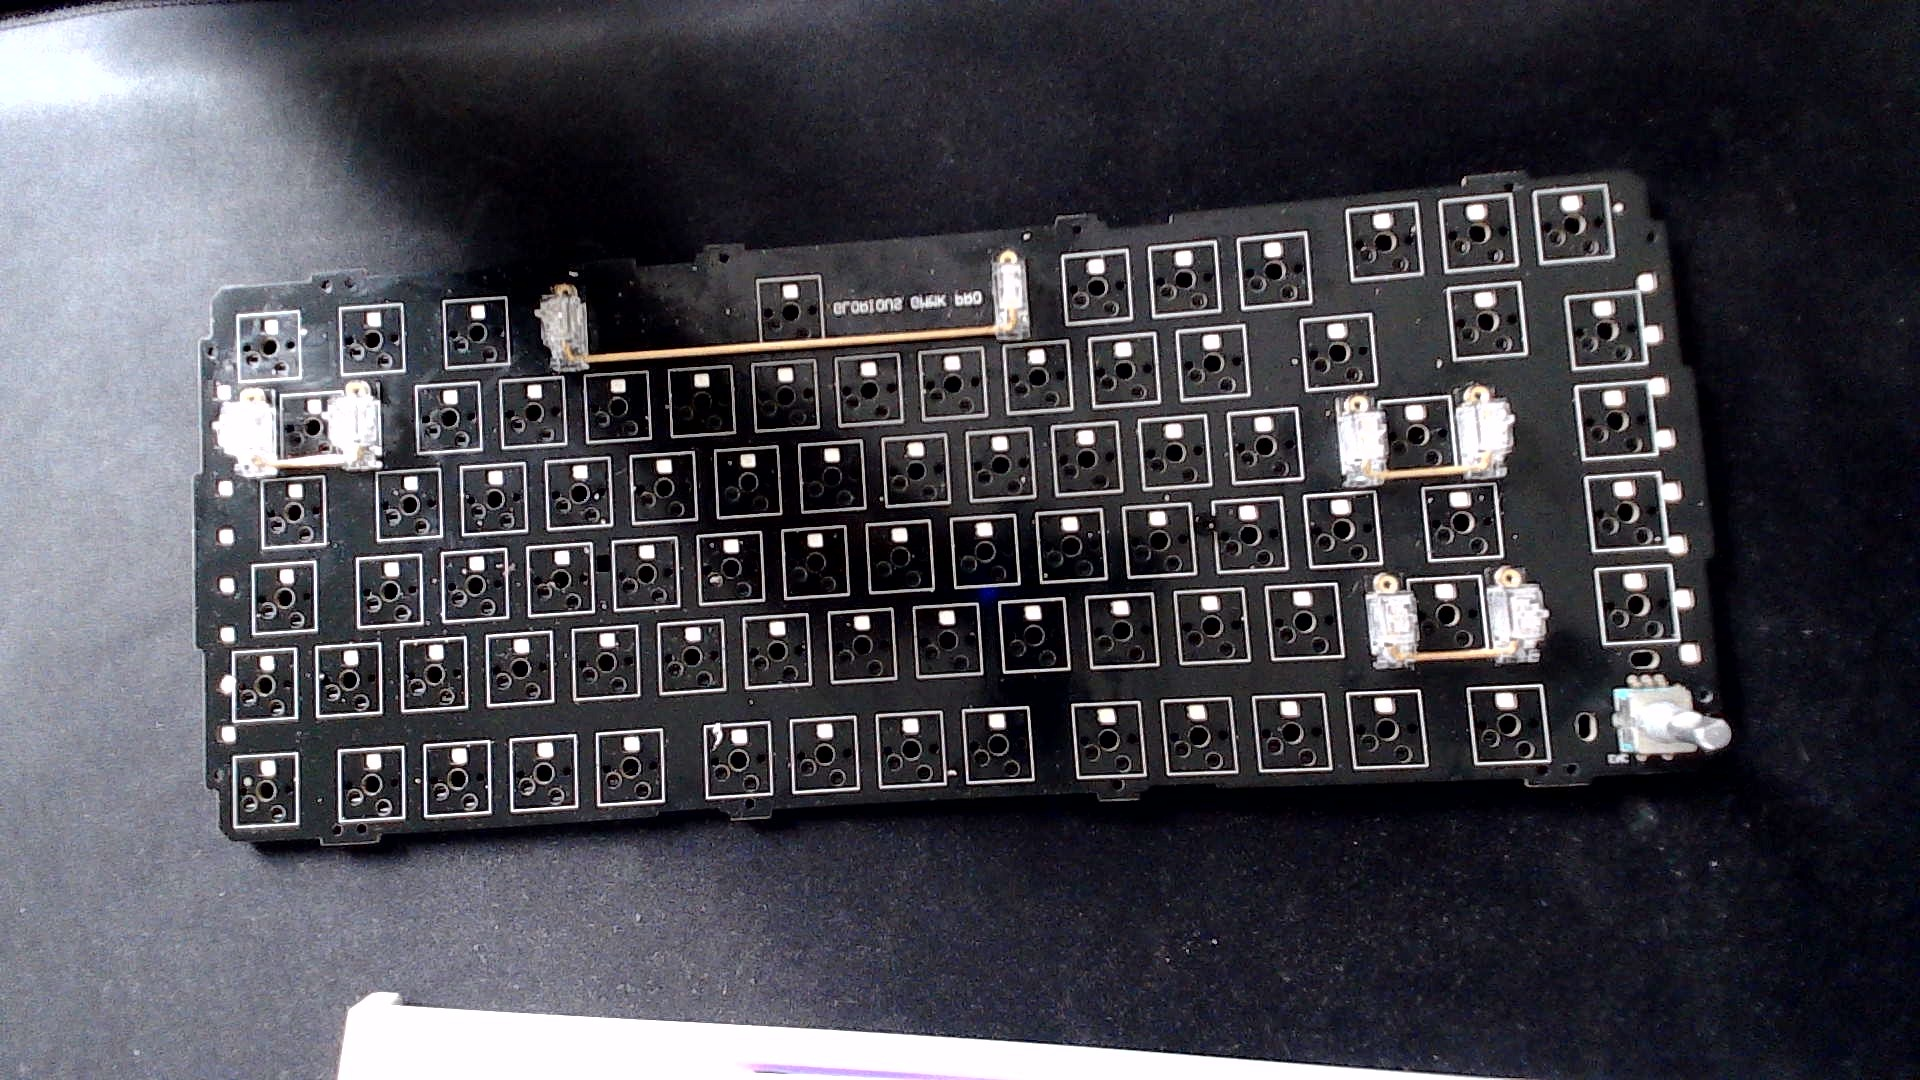pcb: (173, 119, 1785, 886)
